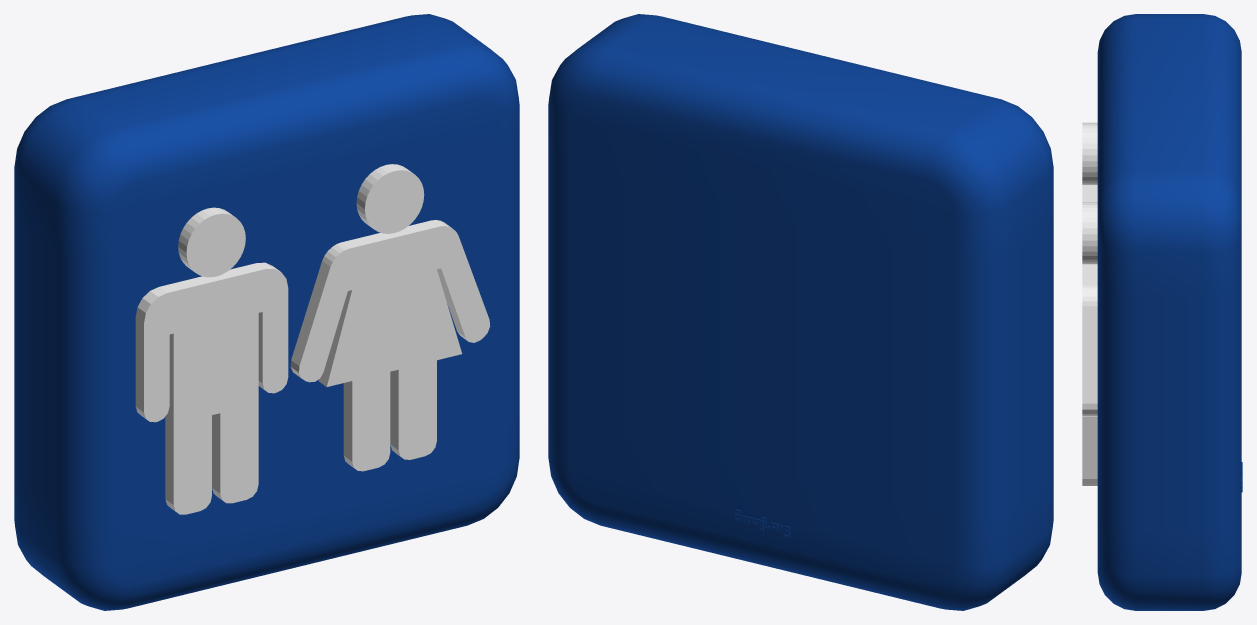
The model's file is restroom.fbx.
3 renders of one model, left to right at view 1: azimuth 30°, elevation 25°; view 2: azimuth 150°, elevation 25°; view 3: azimuth 270°, elevation 25°, orthographic. The views are drawn at different scales.
Parts seen in each view (by area): view 1: Cube.146; view 2: Cube.146; view 3: Cube.146.
Part boxes in pixels (left/top/right/bottom): Cube.146: left=14, top=14, right=519, bottom=610; Cube.146: left=548, top=14, right=1053, bottom=610; Cube.146: left=1082, top=14, right=1242, bottom=610.
Size of the model in its own units: 220 by 220 by 73.36.
1 material, 1 textured.
